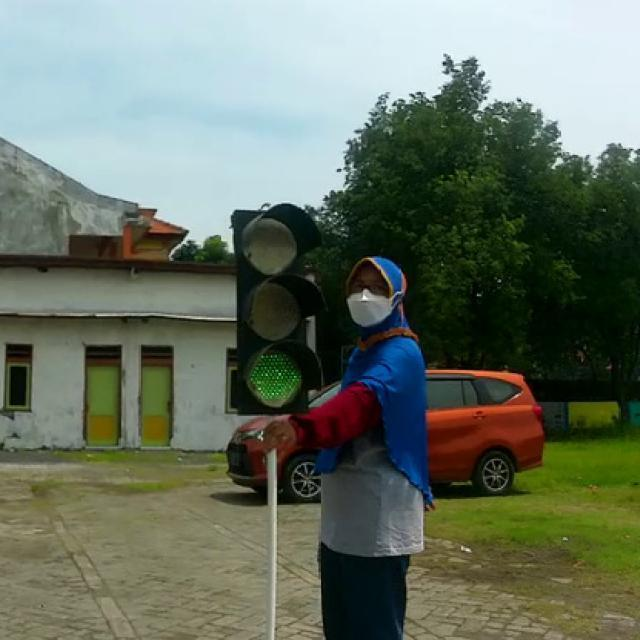green_light: (230, 202, 314, 409)
